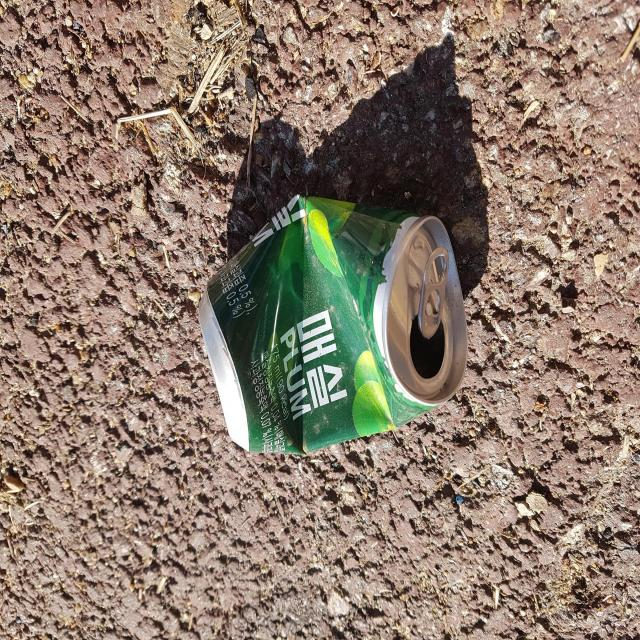can: (199, 194, 468, 454)
